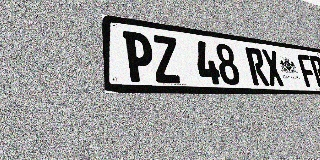4: (193, 40, 222, 85)
8: (214, 43, 241, 85)
F: (297, 54, 318, 87)
P: (123, 31, 155, 83)
R: (245, 47, 270, 86), (309, 55, 320, 88)
X: (261, 49, 285, 86)
Z: (151, 35, 182, 83)
